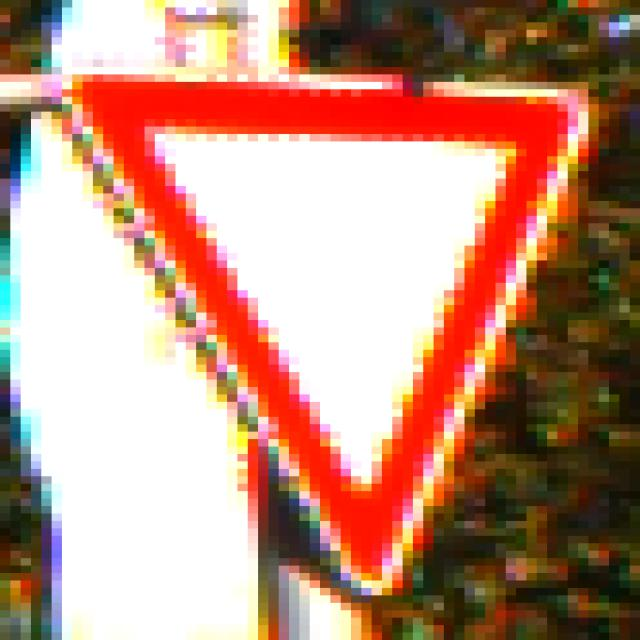Give Way: (53, 60, 590, 589)
